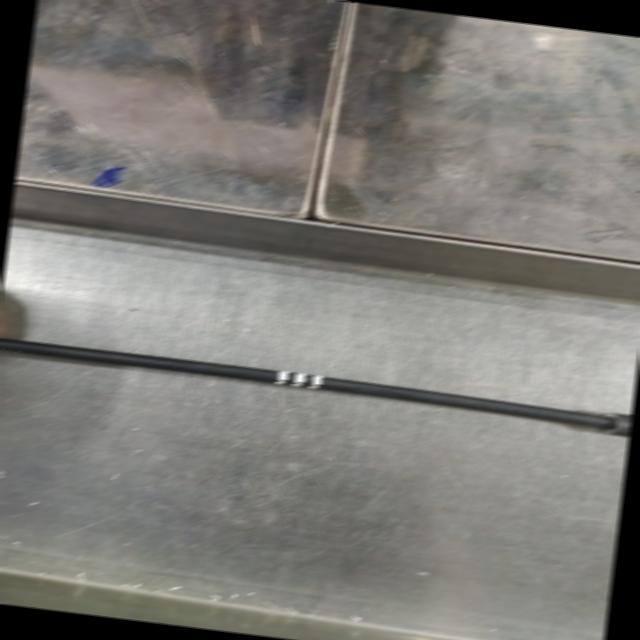white: (273, 369, 323, 390)
